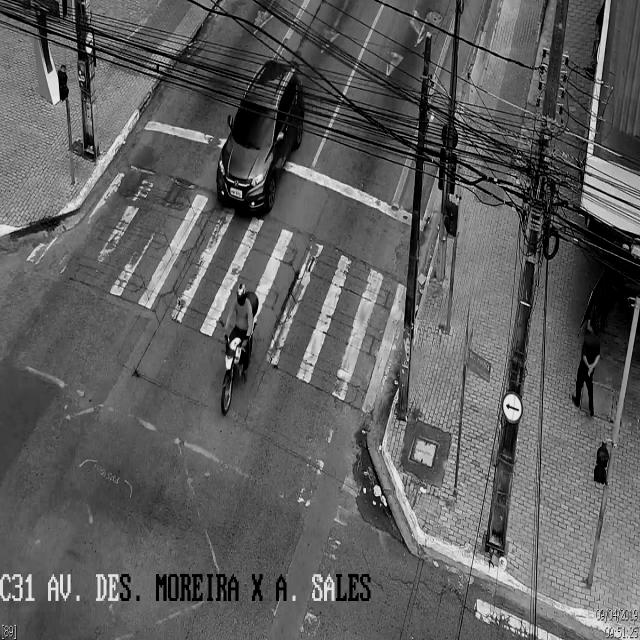Car: (218, 60, 304, 216)
Motorcycle: (221, 289, 257, 411)
